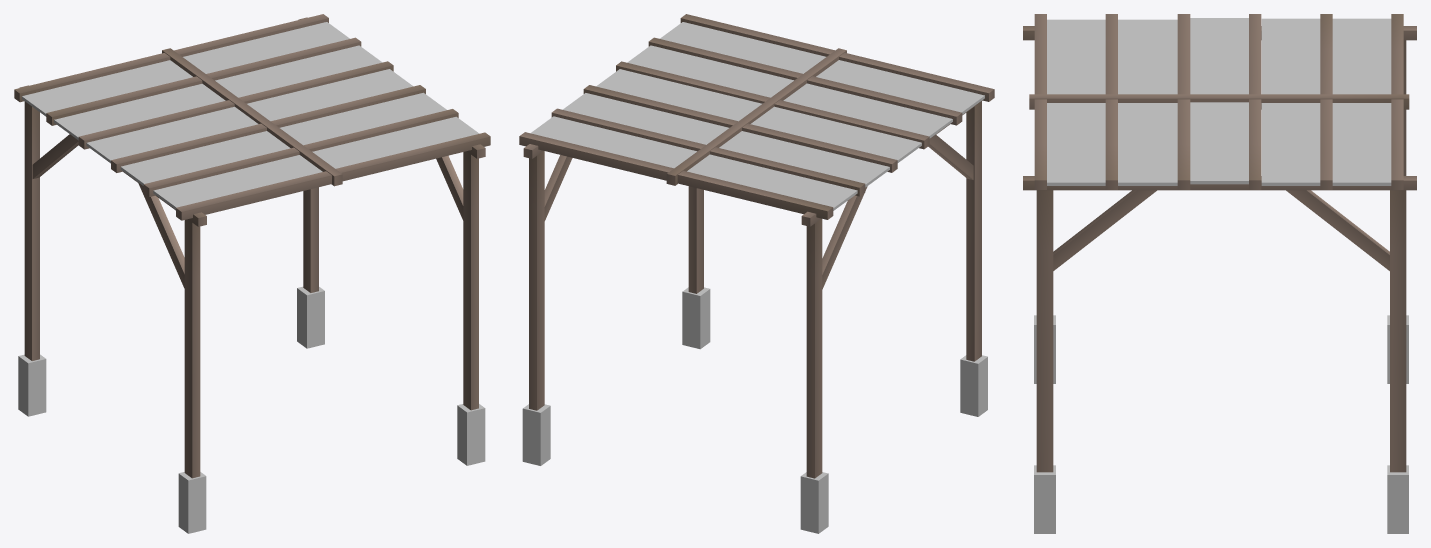
File: Prop_ParkShade02.fbx
3 renders of one model, left to right at view 1: azimuth 30°, elevation 25°; view 2: azimuth 150°, elevation 25°; view 3: azimuth 270°, elevation 25°, orthographic. The views are drawn at different scales.
Visible parts, largest first — view 1: Prop_ParkShade02; view 2: Prop_ParkShade02; view 3: Prop_ParkShade02.
Part boxes in pixels (x1,y1,x2,y2): Prop_ParkShade02: (14, 14, 490, 533); Prop_ParkShade02: (519, 14, 994, 533); Prop_ParkShade02: (1023, 14, 1416, 533).
Size of the model in its own units: 3.66 by 3.67 by 3.66.
